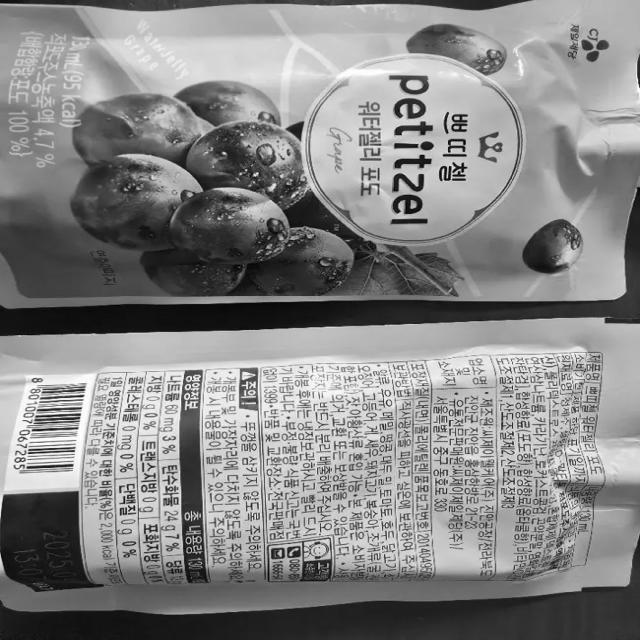Nutrition Label: (79, 366, 213, 607)
